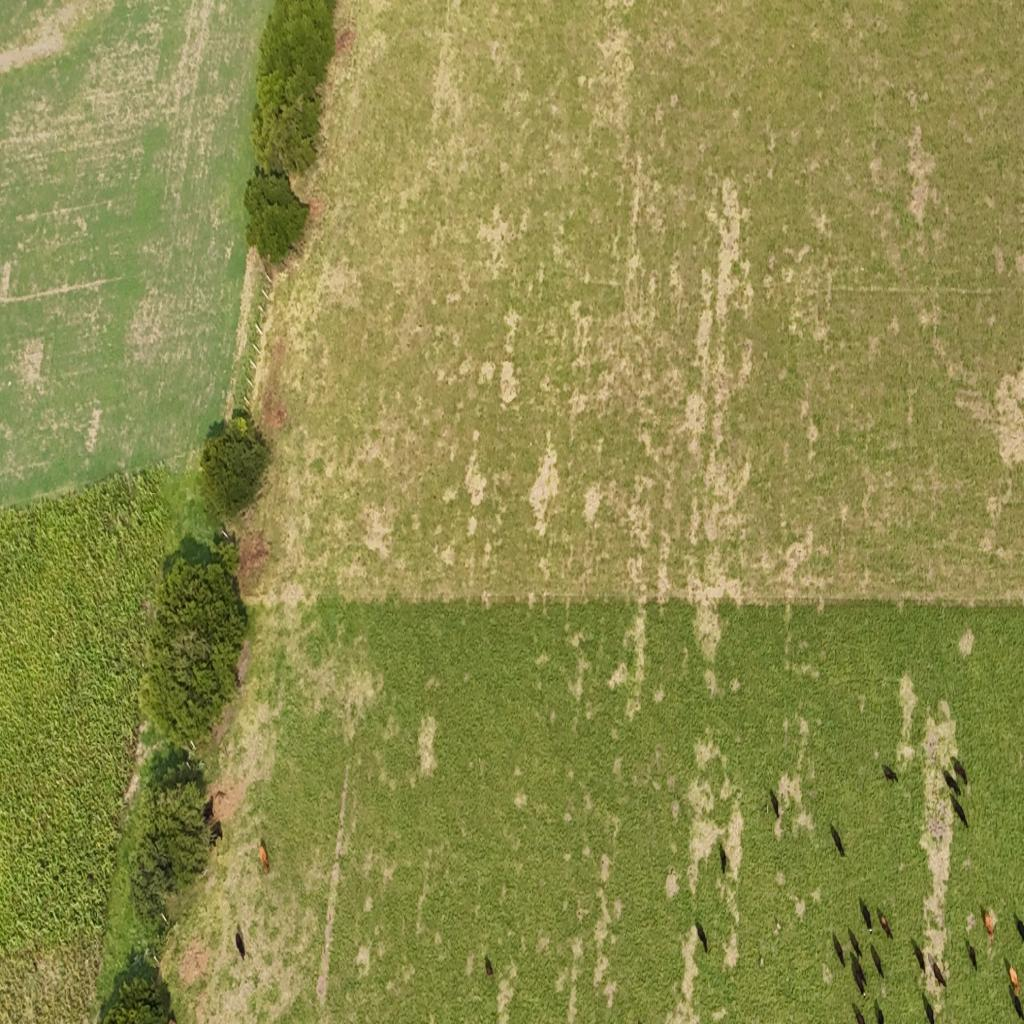cow: (949, 792, 968, 829), (830, 824, 845, 860), (870, 943, 884, 981), (832, 931, 845, 968), (207, 819, 223, 849), (849, 927, 863, 961), (257, 840, 270, 876), (234, 923, 246, 961), (933, 958, 948, 988), (942, 769, 960, 794), (921, 991, 935, 1023), (913, 944, 927, 976), (695, 921, 708, 955), (983, 909, 997, 940), (952, 760, 968, 787), (879, 910, 893, 940), (860, 897, 872, 932), (1008, 964, 1020, 998), (966, 936, 977, 972), (202, 796, 216, 824), (1012, 992, 1024, 1020), (855, 960, 867, 988), (852, 1000, 866, 1023), (772, 790, 782, 820), (854, 972, 865, 997), (883, 766, 898, 784), (874, 1000, 885, 1024), (719, 843, 727, 874), (1018, 914, 1024, 948), (485, 960, 494, 980), (167, 1010, 178, 1024)
